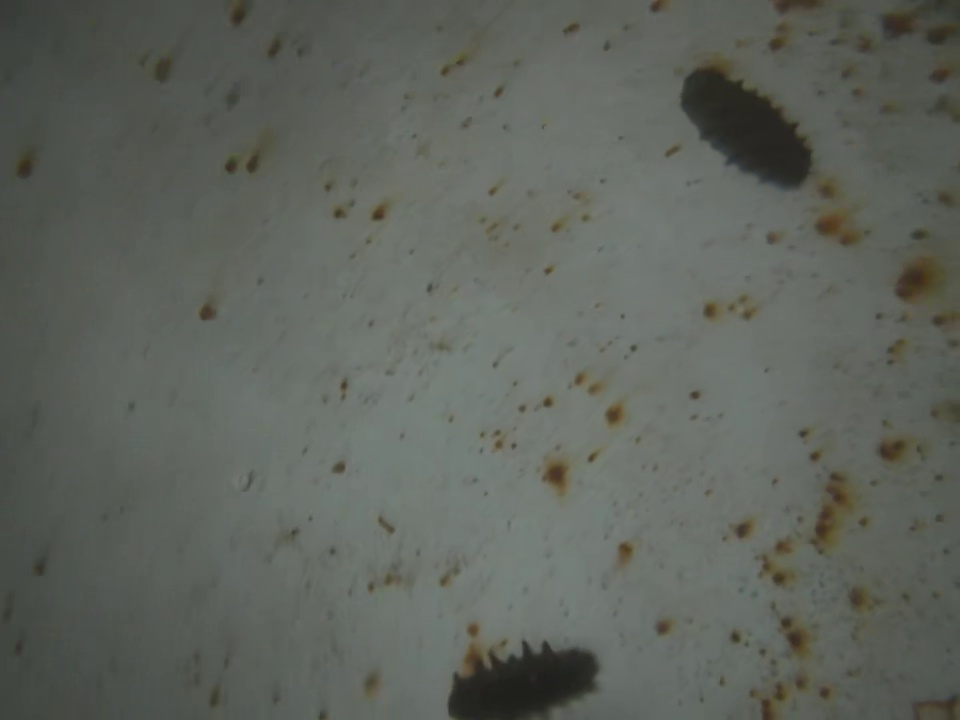seacucumber: (680, 63, 815, 192), (444, 635, 602, 720)
